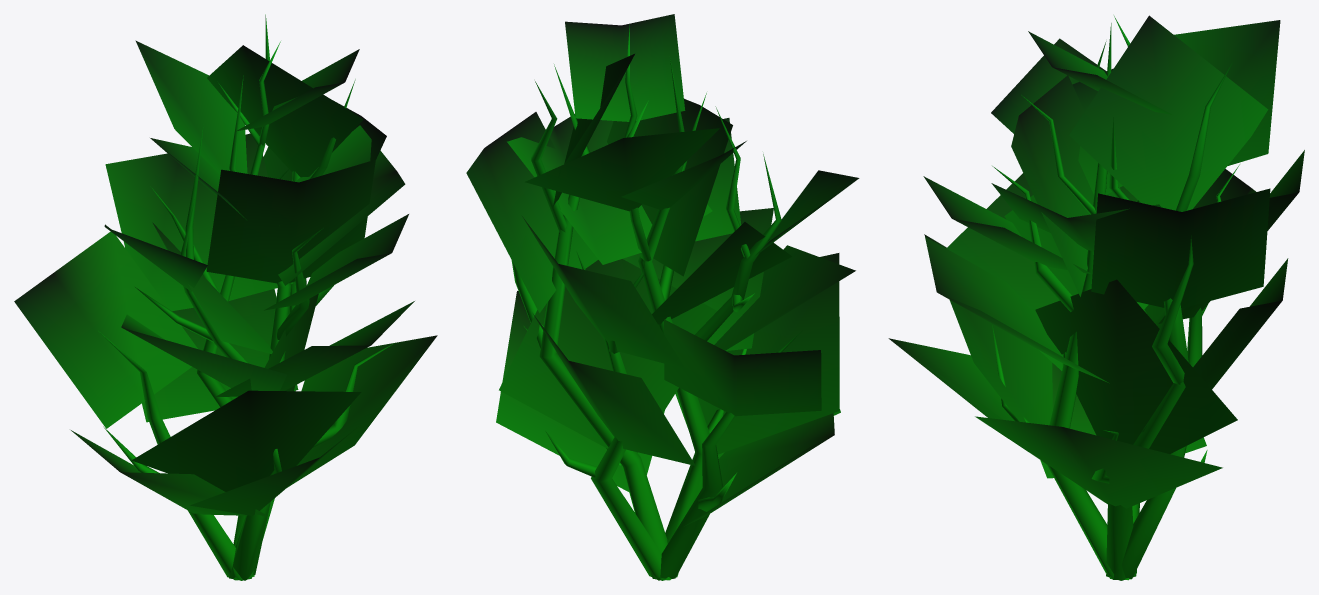
The model's file is env_burntforest_smallbush02.fbx.
3 views of the same model, side by side, from view 1: azimuth 30°, elevation 25°; view 2: azimuth 150°, elevation 25°; view 3: azimuth 270°, elevation 25° (orthographic). The views are drawn at different scales.
Parts seen in each view (by area): view 1: env_burntforest_smallbush02; view 2: env_burntforest_smallbush02; view 3: env_burntforest_smallbush02.
Part boxes in pixels (x1,y1,x2,y2): env_burntforest_smallbush02: (14, 14, 437, 580); env_burntforest_smallbush02: (466, 14, 859, 580); env_burntforest_smallbush02: (888, 15, 1304, 580).
Bounding box in the file's own units: 20.28 × 28.38 × 18.49.
